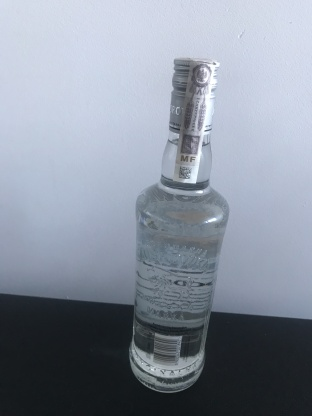nakretka: (166, 50, 222, 139)
